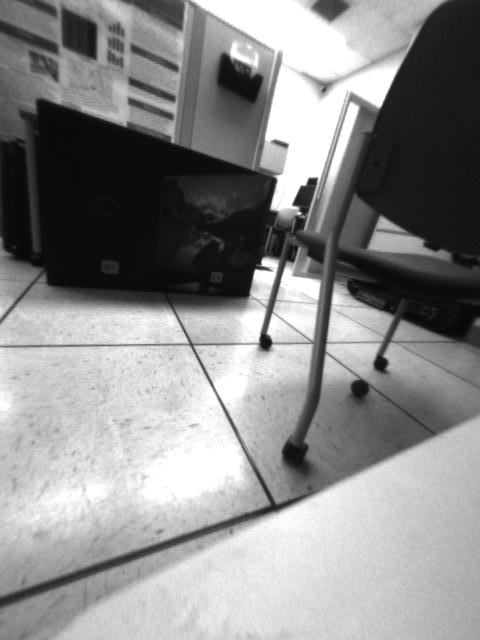dogtoy: (345, 371, 375, 403)
